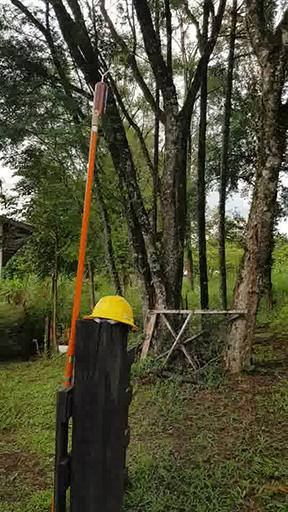Detector_Tensao_Contato: (91, 69, 111, 116)
Vara_Manobra: (63, 116, 100, 396)
